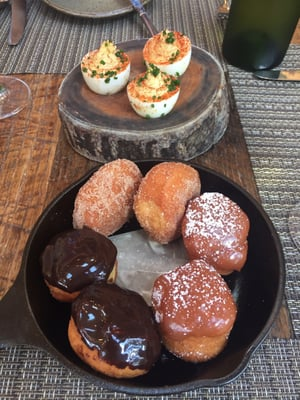pizza: (221, 0, 300, 72)
